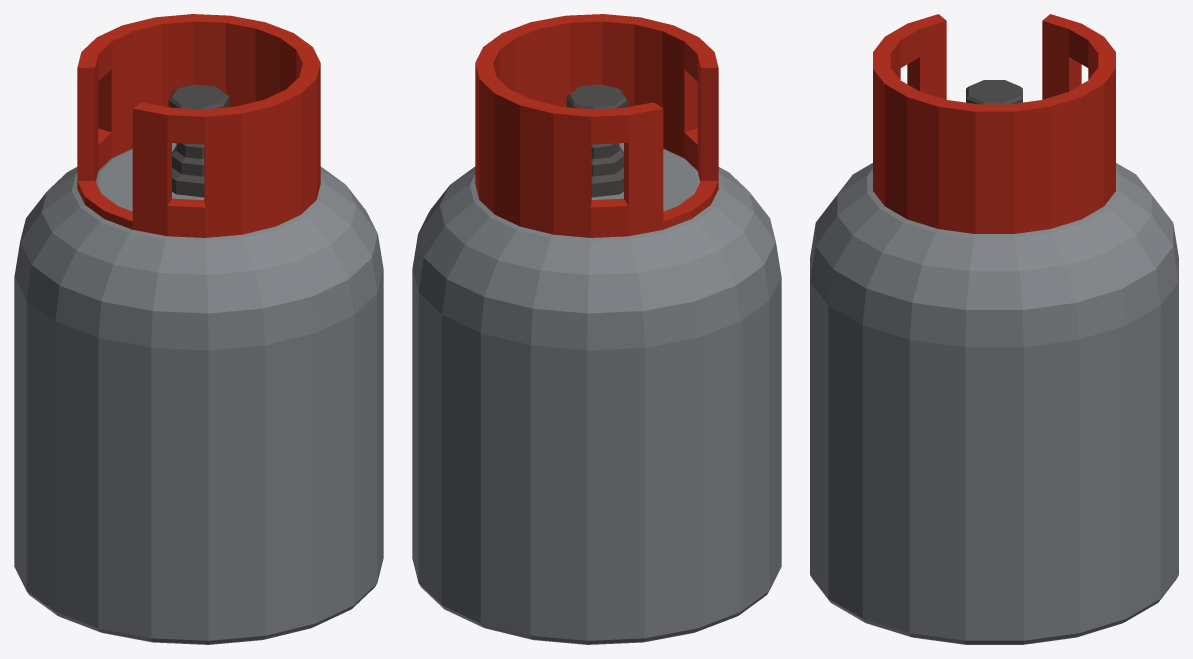
File: SM_Cook_GasTank_01.fbx
3 views of the same model, side by side, from view 1: azimuth 30°, elevation 25°; view 2: azimuth 150°, elevation 25°; view 3: azimuth 270°, elevation 25° (orthographic).
Visible parts, largest first — view 1: SM_Cook_GasTank_01; view 2: SM_Cook_GasTank_01; view 3: SM_Cook_GasTank_01.
Part boxes in pixels (x1,y1,x2,y2): SM_Cook_GasTank_01: (14,14,383,644); SM_Cook_GasTank_01: (412,14,781,644); SM_Cook_GasTank_01: (810,14,1178,644).
Size of the model in its own units: 0.3805 by 0.58 by 0.3805.
Materials: 1 (1 with a texture image).
